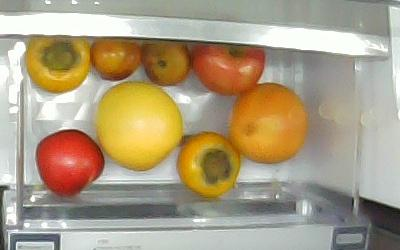apple: (35, 127, 104, 199), (190, 45, 265, 95)
grapefruit: (95, 81, 182, 172), (229, 81, 309, 165)
persimmon: (177, 131, 241, 199), (26, 36, 90, 94)
prune: (141, 41, 190, 87), (90, 39, 140, 82)
